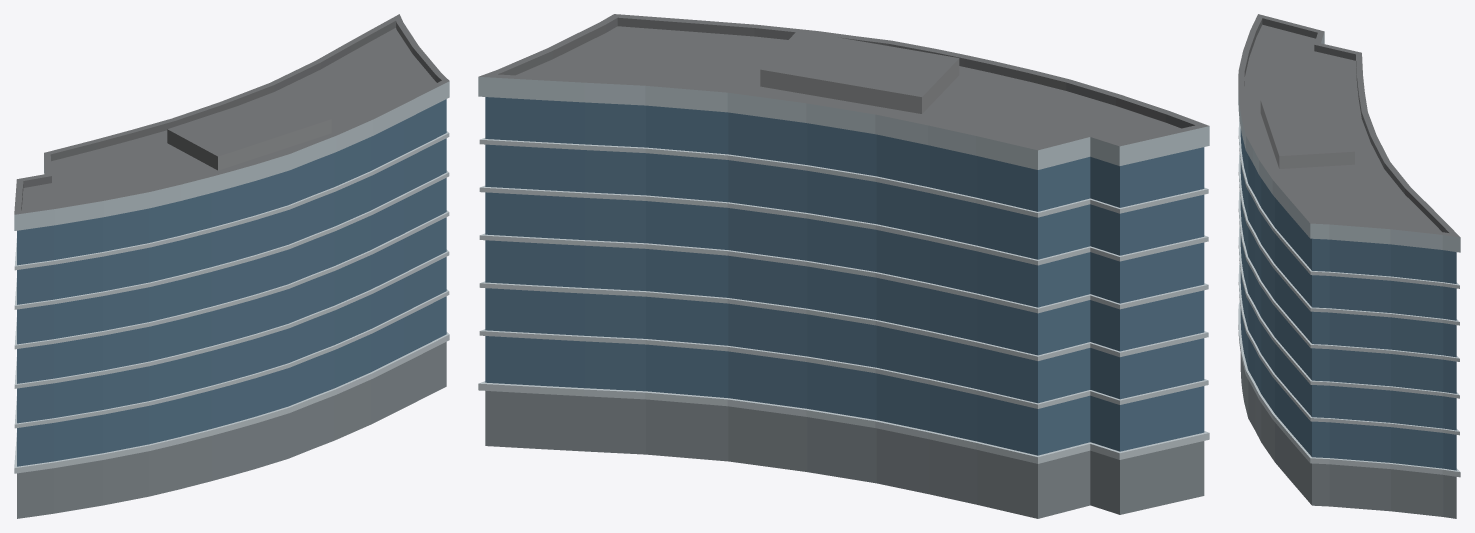
The model's file is bldg_w134930091.glb.
3 views of the same model, side by side, from view 1: azimuth 30°, elevation 25°; view 2: azimuth 150°, elevation 25°; view 3: azimuth 270°, elevation 25° (orthographic). The views are drawn at different scales.
Parts seen in each view (by area): view 1: Wing_w134930091; view 2: Wing_w134930091; view 3: Wing_w134930091.
Part boxes in pixels (x1,y1,x2,y2): Wing_w134930091: (14,14,449,518); Wing_w134930091: (478,14,1209,518); Wing_w134930091: (1238,14,1460,518).
Size of the model in its own units: 111 by 67 by 46.68.
